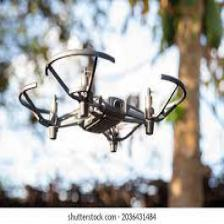drone: (18, 49, 186, 154)
